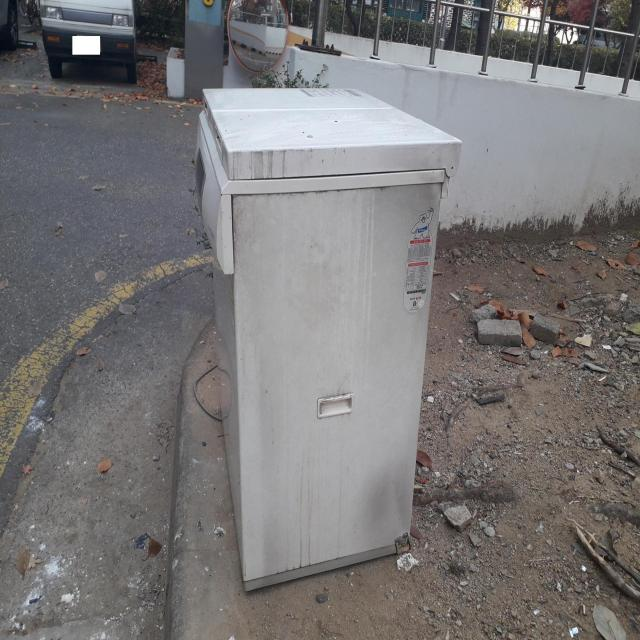refrigerator: (194, 87, 463, 593)
